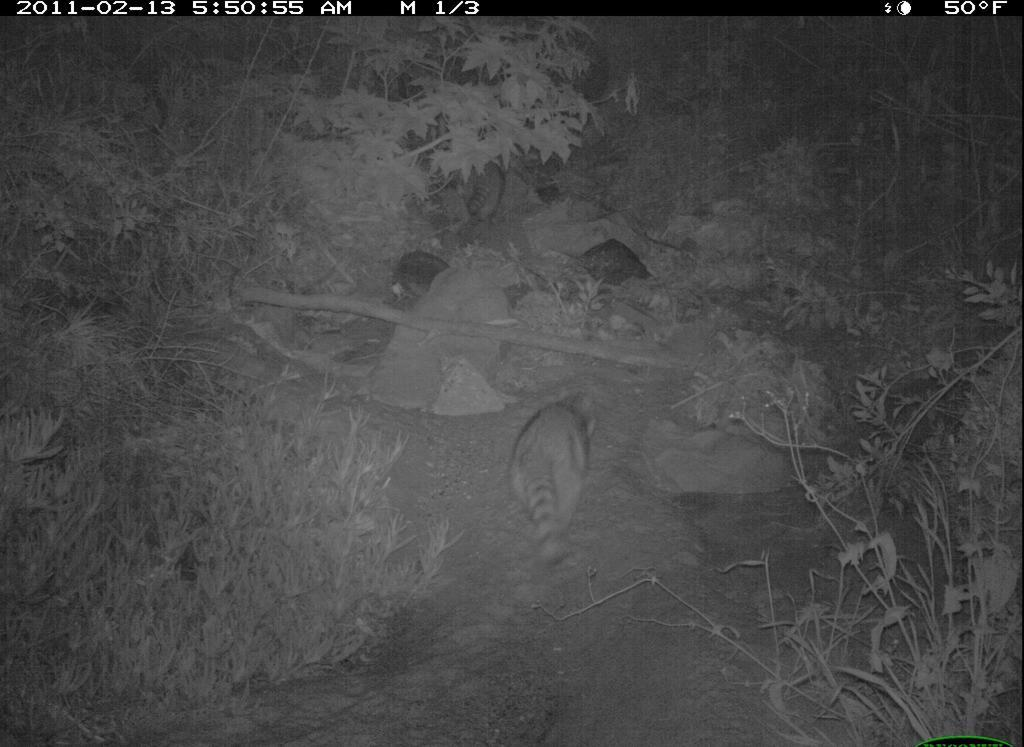raccoon: (504, 387, 616, 578)
